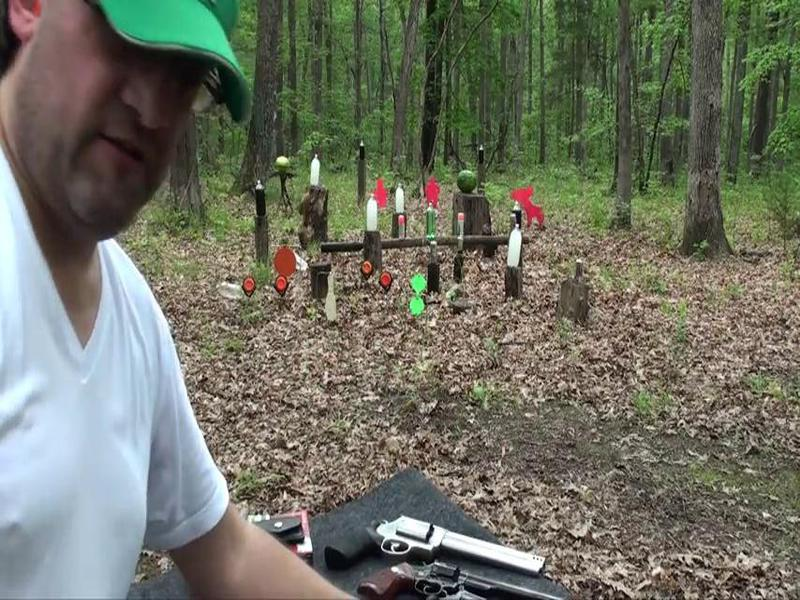Revolver: (316, 506, 559, 587)
